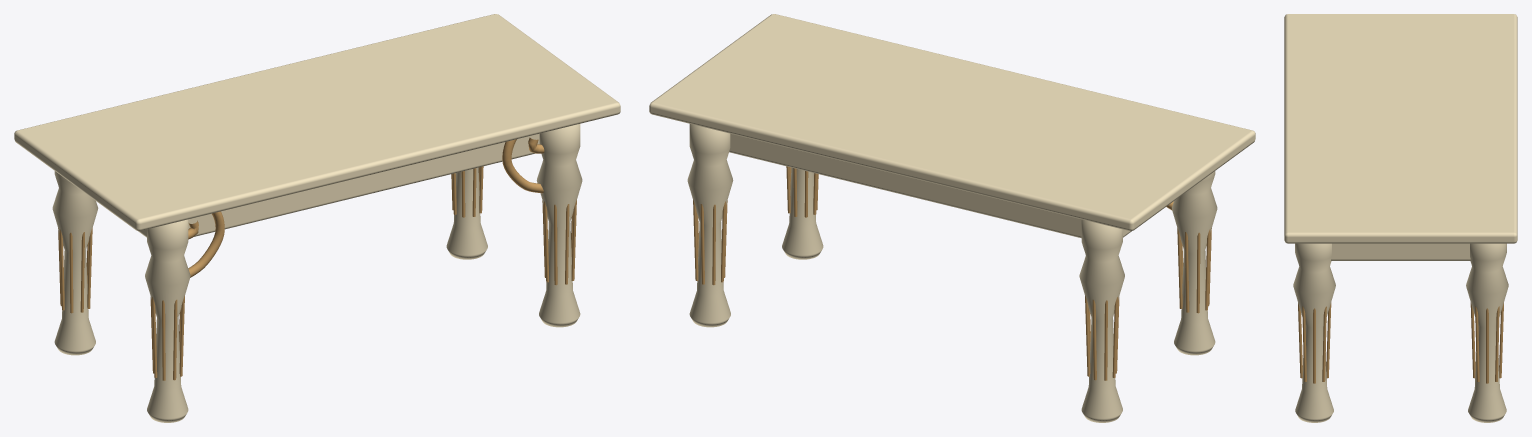
File: desk_gilt_royal-ded6dfa40fa9.glb
3 views of the same model, side by side, from view 1: azimuth 30°, elevation 25°; view 2: azimuth 150°, elevation 25°; view 3: azimuth 270°, elevation 25° (orthographic). The views are drawn at different scales.
Parts seen in each view (by area): view 1: surface_ivory, surface_brass; view 2: surface_ivory, surface_brass; view 3: surface_ivory, surface_brass.
Boxes of the visible parts, x1,y1,x2,y2 form: surface_ivory: (14,14,620,422); surface_brass: (58,137,576,380); surface_ivory: (649,14,1255,422); surface_brass: (693,166,1211,380); surface_ivory: (1284,14,1517,422); surface_brass: (1298,302,1503,383).
Size of the model in its own units: 1.75 by 0.75 by 0.78.
